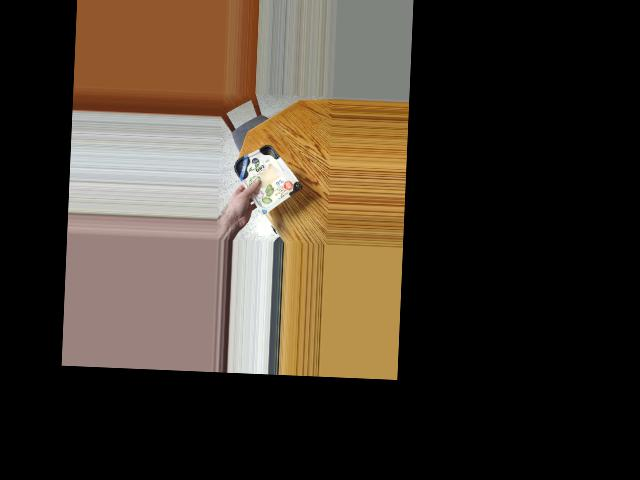cheese: (231, 143, 298, 204)
